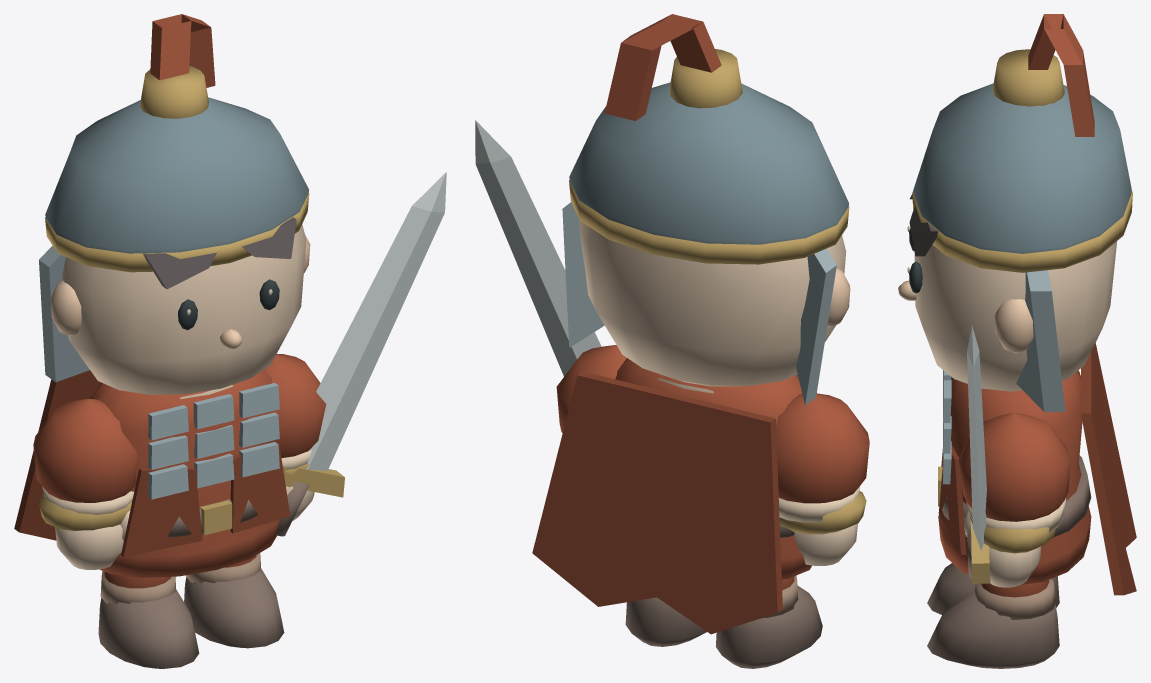
Rendered from giant.glb.
3 views of the same model, side by side, from view 1: azimuth 30°, elevation 25°; view 2: azimuth 150°, elevation 25°; view 3: azimuth 270°, elevation 25° (orthographic). The views are drawn at different scales.
Visible parts, largest first — view 1: Regional helmet, Soft cheek head, Short folded tunic, Shaped bevel sword, Puff sleeve, Round leather boot, Round leather boot.001, Coat fold, Puff sleeve.001, Red silk tassel, Helmet brow band, Coat fold.001 (+24 smaller); view 2: Short scalloped cape, Regional helmet, Soft cheek head, Shaped bevel sword, Puff sleeve, Red silk tassel, Helmet brow band, Short folded tunic, Round leather boot, Han side guard, Han side guard.001, Top knot socket (+6 smaller); view 3: Regional helmet, Soft cheek head, Puff sleeve.001, Short folded tunic, Round leather boot.001, Short scalloped cape, Han side guard.001, Helmet brow band, Red silk tassel, Top knot socket, Shaped bevel sword, Boot turn cuff.001 (+10 smaller).
Boxes of the visible parts, x1,y1,x2,y2 form: Regional helmet: (45,97,308,253); Soft cheek head: (62,224,306,394); Short folded tunic: (89,369,279,577); Shaped bevel sword: (306,172,446,470); Puff sleeve: (33,399,137,502); Round leather boot: (98,589,199,668); Round leather boot.001: (184,568,284,648); Coat fold: (121,467,202,556); Puff sleeve.001: (265,354,326,457); Red silk tassel: (150,14,215,87); Helmet brow band: (45,192,309,272); Coat fold.001: (230,439,290,533); Short scalloped cape: (532,371,782,634); Regional helmet: (569,82,848,244); Soft cheek head: (579,221,846,386); Shaped bevel sword: (475,120,601,376); Puff sleeve: (776,393,869,503); Red silk tassel: (604,14,721,121); Helmet brow band: (569,180,849,264); Short folded tunic: (615,358,811,579); Round leather boot: (715,586,822,668); Han side guard: (796,248,836,405); Han side guard.001: (562,202,604,347); Top knot socket: (669,49,742,108); Regional helmet: (913,83,1131,253); Soft cheek head: (914,241,1117,391); Puff sleeve.001: (958,413,1070,521); Short folded tunic: (938,370,1091,584); Round leather boot.001: (927,590,1059,668); Short scalloped cape: (1081,343,1136,595); Han side guard.001: (1016,270,1065,411); Helmet brow band: (912,190,1132,272); Red silk tassel: (1028,14,1094,136); Top knot socket: (992,49,1064,106); Shaped bevel sword: (967,325,986,550); Boot turn cuff.001: (974,578,1055,619).
Size of the model in its own units: 1.65 by 2.45 by 0.8564.
